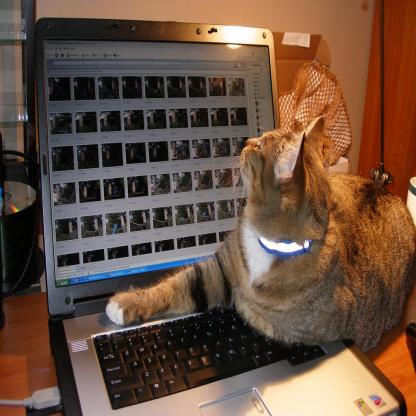board: (33, 16, 406, 416)
